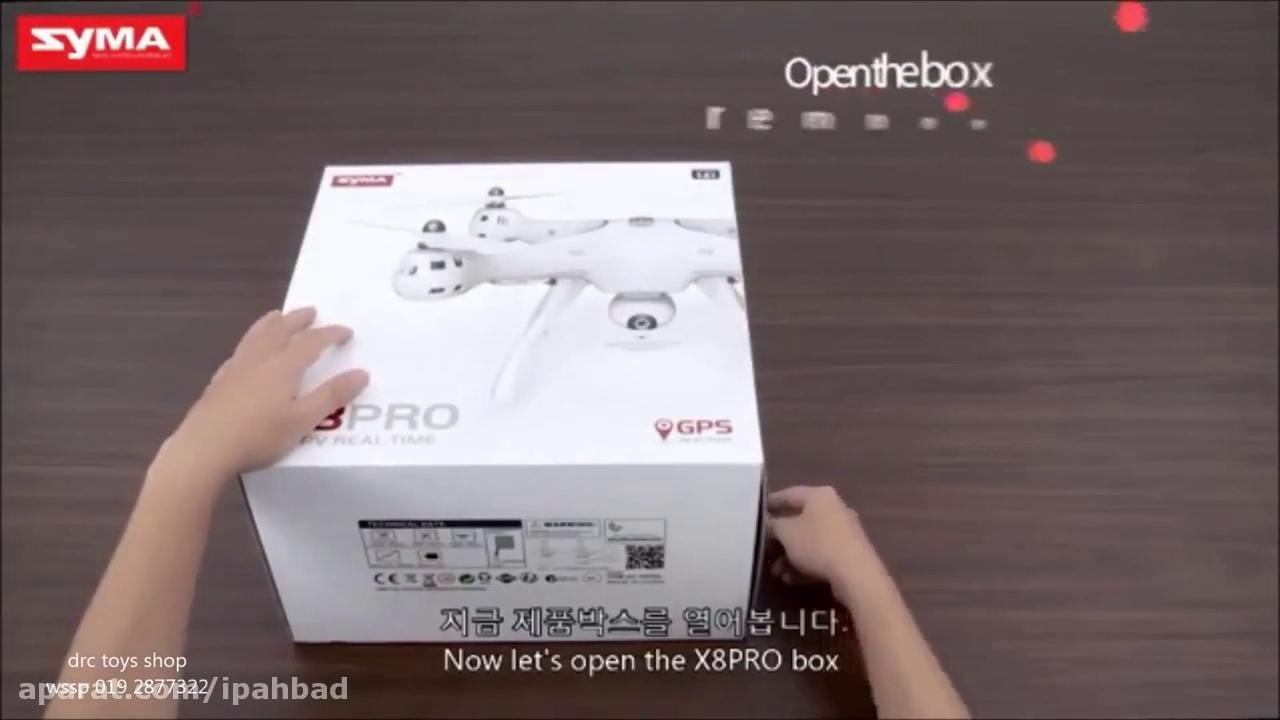drone: (342, 182, 754, 385)
